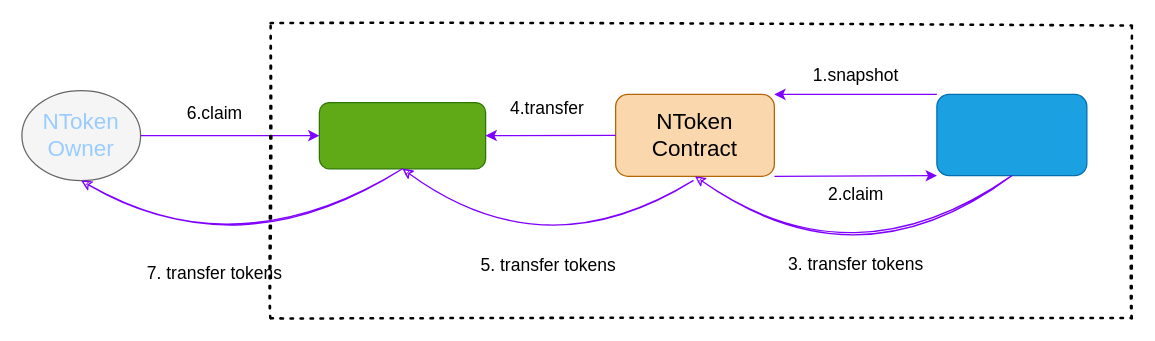
Image size: 1155x341. Some labels were removed from this diagram. Each missing label, with the box of its shape:
Airdrop Distribution: (318, 101, 486, 169)
Third Parties Airdrop: (936, 93, 1087, 176)
